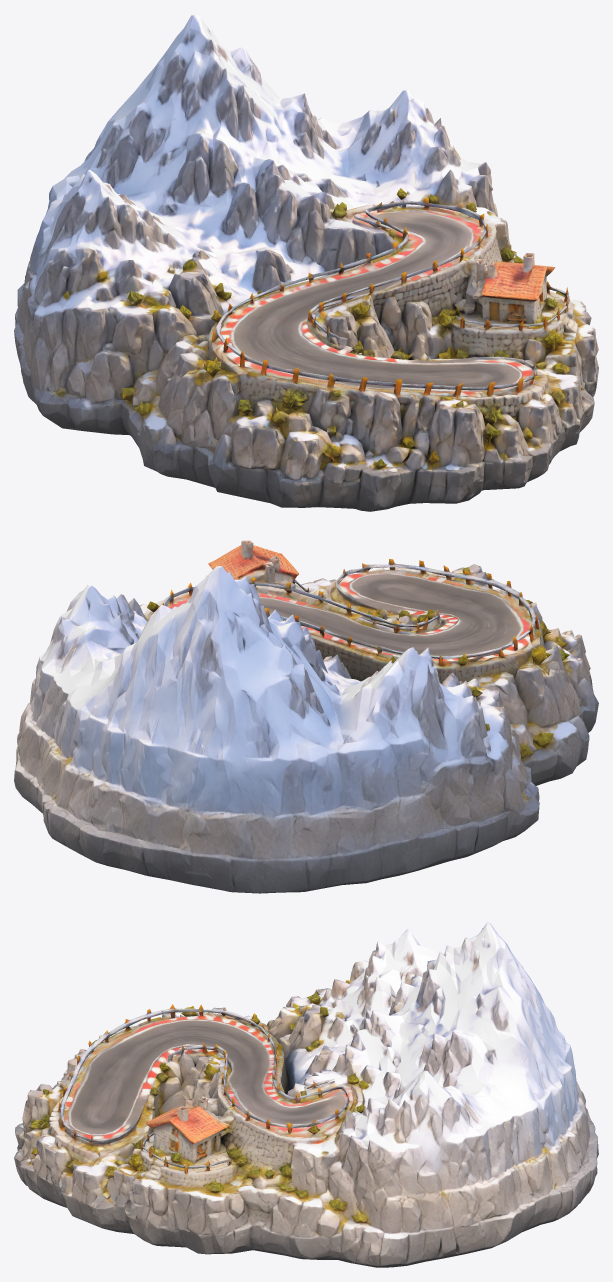
3 renders of one model, top to bottom at view 1: azimuth 30°, elevation 25°; view 2: azimuth 150°, elevation 25°; view 3: azimuth 270°, elevation 25°, orthographic. The views are drawn at different scales.
Parts seen in each view (by area): view 1: model; view 2: model; view 3: model.
Boxes of the visible parts, x1=… form: model: x1=14, y1=14, x2=598, y2=511; model: x1=14, y1=540, x2=598, y2=893; model: x1=14, y1=922, x2=598, y2=1267.
Bounding box in the file's own units: 1.58 × 0.8711 × 1.89.
Materials: 1 (1 with a texture image).
